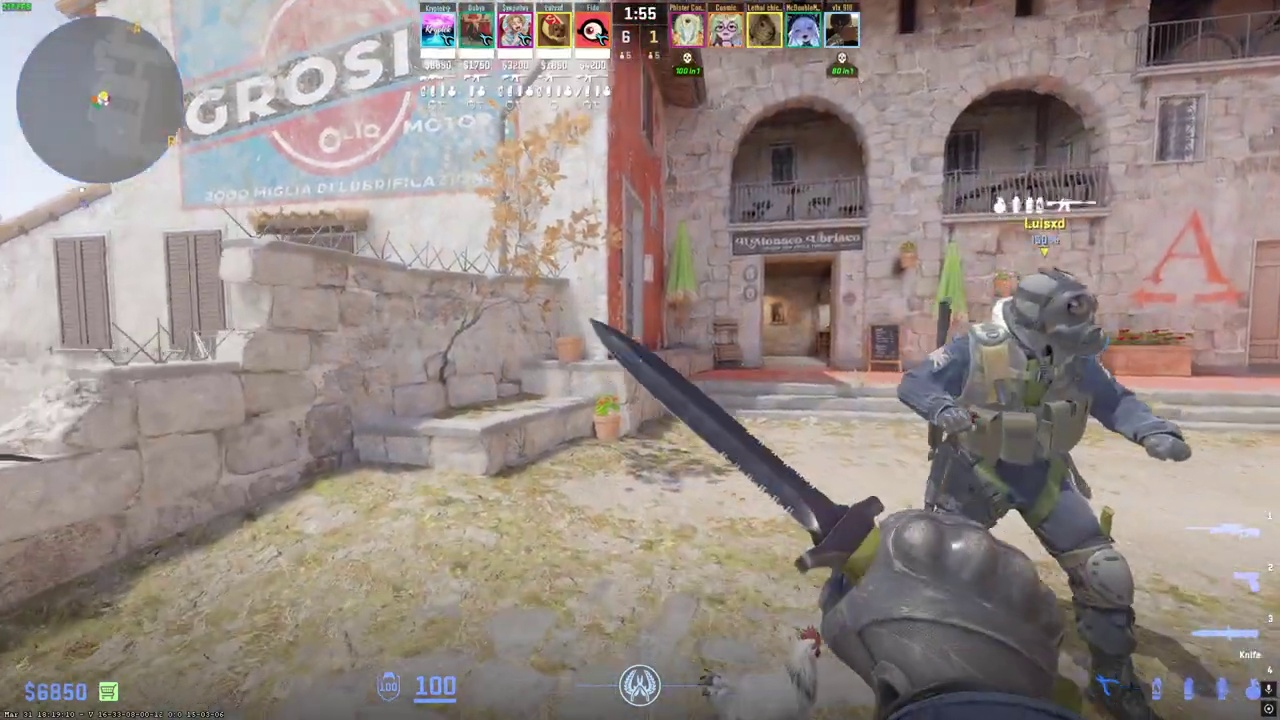CT: (910, 266, 1156, 699)
